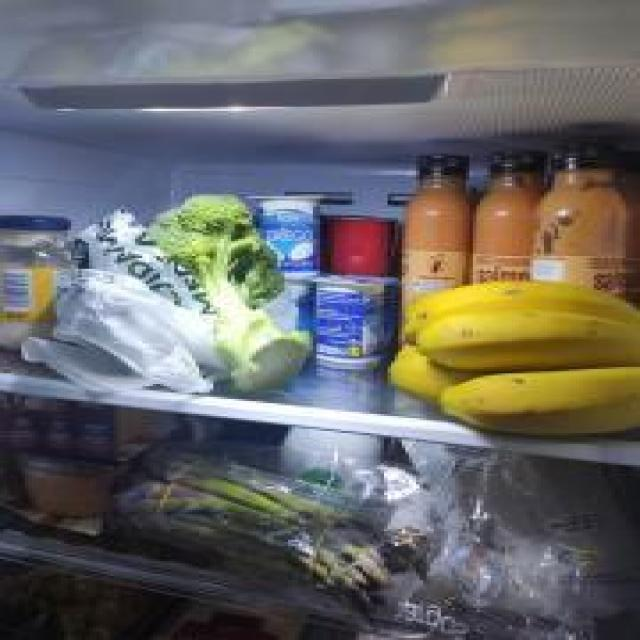asparagus: (110, 440, 438, 634)
banana: (402, 280, 640, 349), (412, 309, 640, 372), (437, 365, 640, 435), (388, 344, 480, 408)
broccoli: (148, 192, 314, 395)
cheese: (402, 438, 640, 635)
humus: (0, 391, 181, 468), (0, 459, 153, 536)
mayonaise: (0, 214, 78, 349)
yogurt: (306, 273, 394, 373), (247, 193, 325, 278)
